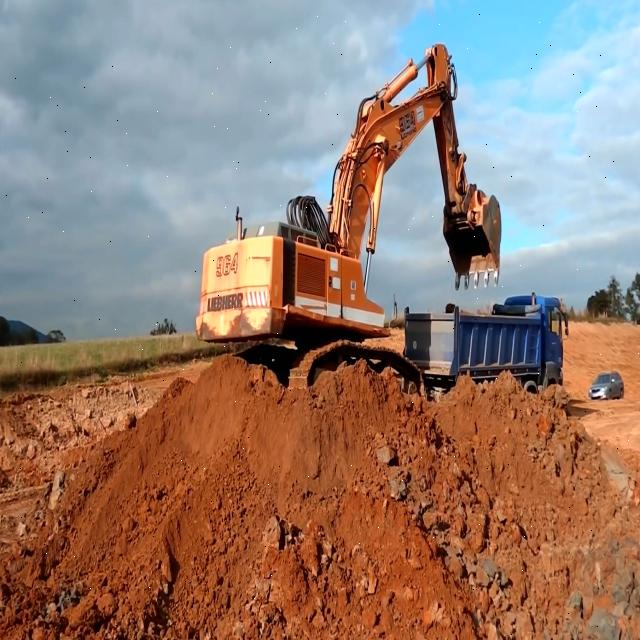Excavator: (195, 43, 499, 396)
